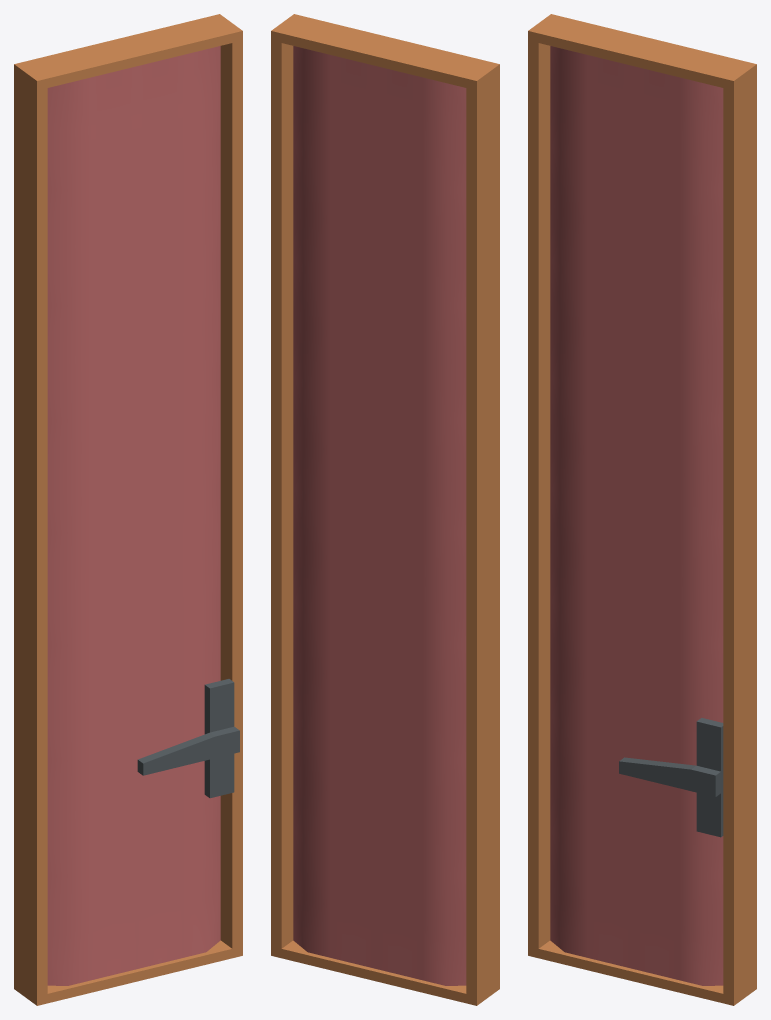
Rendered from STM_GrandDoor.fbx.
The picture shows the model from 3 angles, left to right: view 1: azimuth 30°, elevation 25°; view 2: azimuth 150°, elevation 25°; view 3: azimuth 330°, elevation 25°; orthographic projection.
Parts seen in each view (by area): view 1: pCube25; view 2: pCube25; view 3: pCube25.
Boxes of the visible parts, <box> form: pCube25: <box>14,14,242,1005</box>; pCube25: <box>271,14,499,1005</box>; pCube25: <box>528,14,756,1005</box>.
Bounding box in the file's own units: 6.91 × 29.68 × 1.78.
